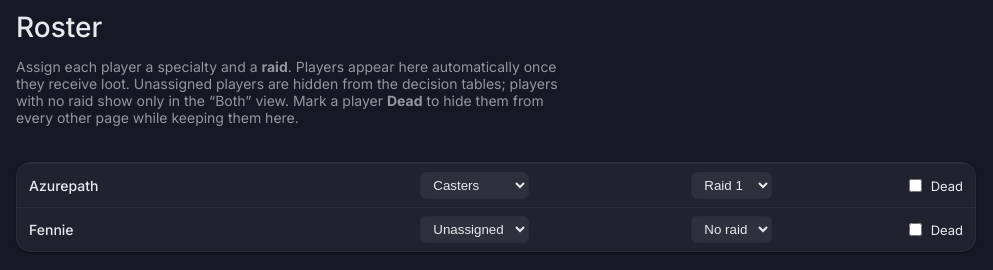
Test: RosterEditor › reverts the dead checkbox on a failed save
This screenshot has width=993, height=270.
Click the checkbox named "dead Azurepath".
click(915, 186)  # box [909, 179, 922, 192]
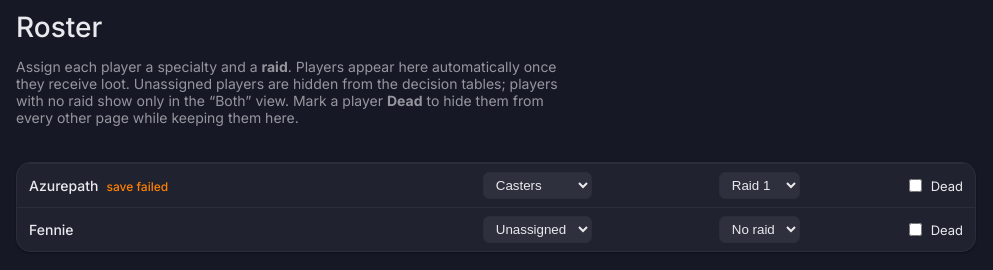
Now the text "save failed" is shown, box [106, 179, 168, 194]
